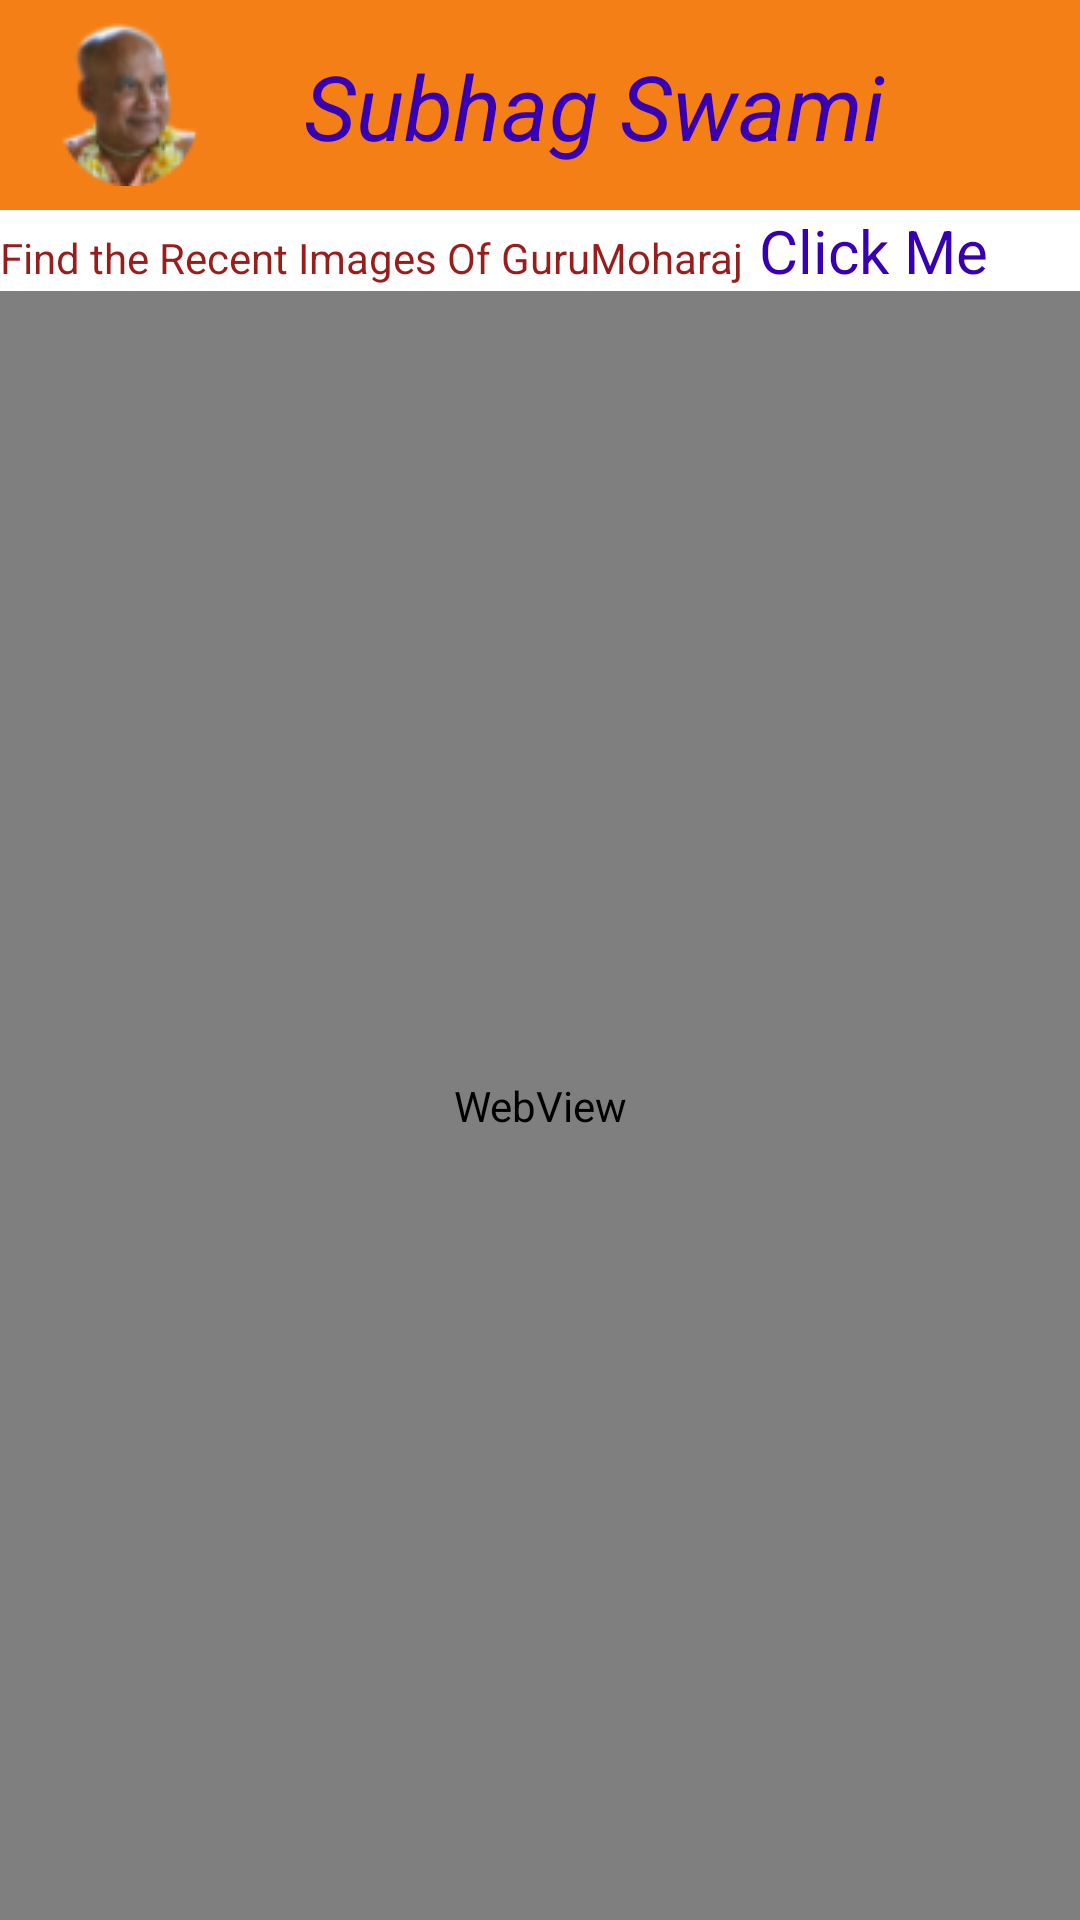

Screen size 1080px x 1920px. Icon name, then its box in pixels as (x1, y1, x2, y2):
smallphoto: (63, 24, 196, 186)
